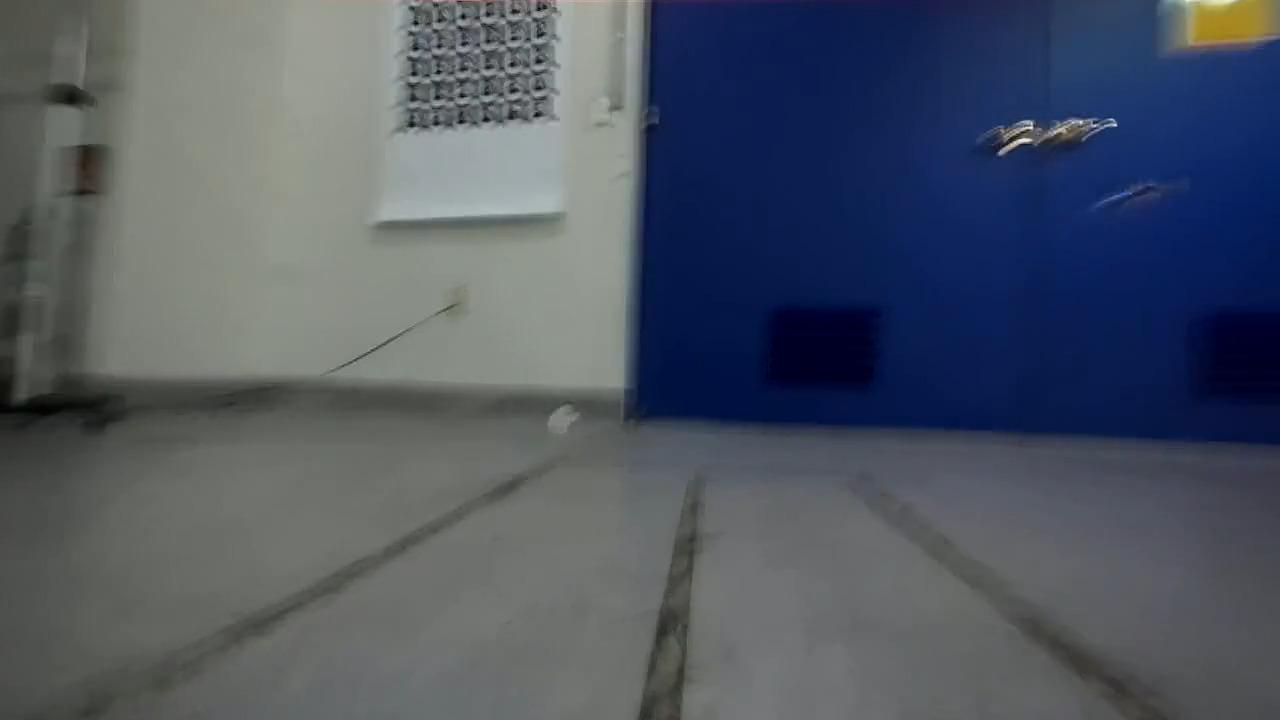crazyflie: (1088, 179, 1184, 218)
